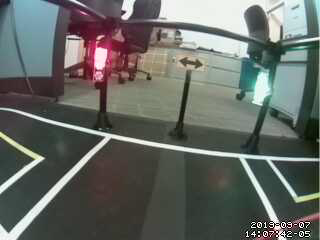Left_Right_sign: (175, 55, 208, 73)
Traffic_light_green: (254, 66, 269, 112)
Traffic_light_red: (92, 44, 109, 84)
